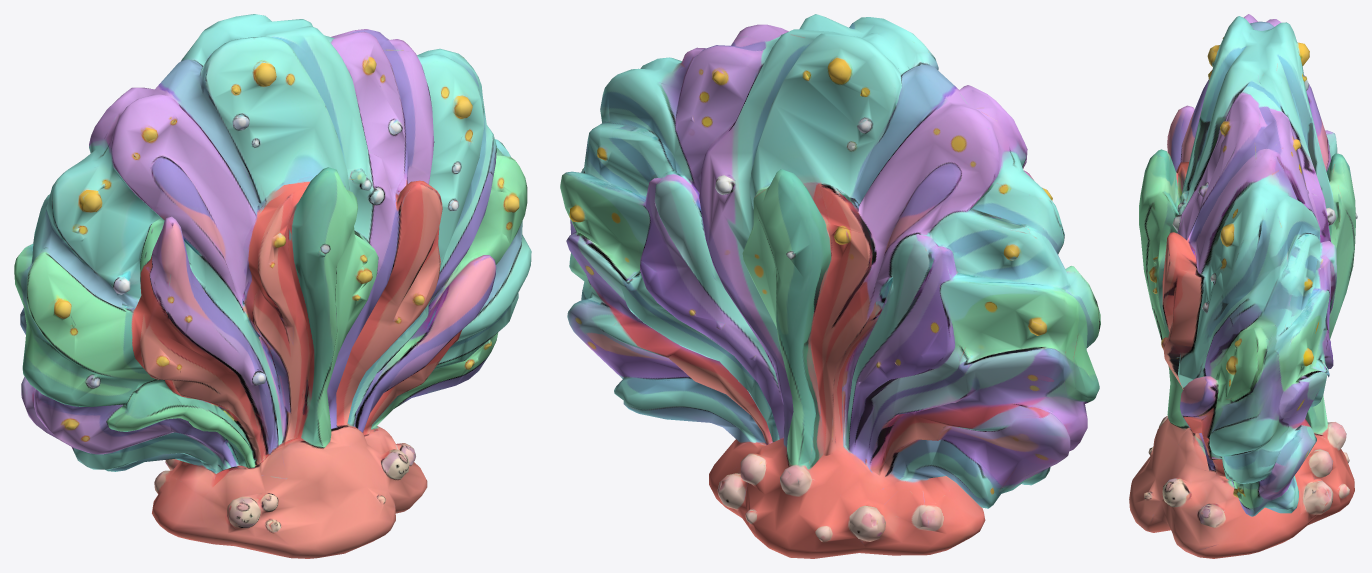
Rendered from static.glb.
3 renders of one model, left to right at view 1: azimuth 30°, elevation 25°; view 2: azimuth 150°, elevation 25°; view 3: azimuth 270°, elevation 25°, orthographic. The views are drawn at different scales.
Visible parts, largest first — view 1: Mesh_0; view 2: Mesh_0; view 3: Mesh_0.
Part boxes in pixels (bbox=[...]): Mesh_0: bbox=[14, 14, 531, 558]; Mesh_0: bbox=[560, 14, 1100, 558]; Mesh_0: bbox=[1129, 14, 1357, 558].
Bounding box in the file's own units: 1.9 × 1.78 × 0.7771.
1 material, 1 textured.
